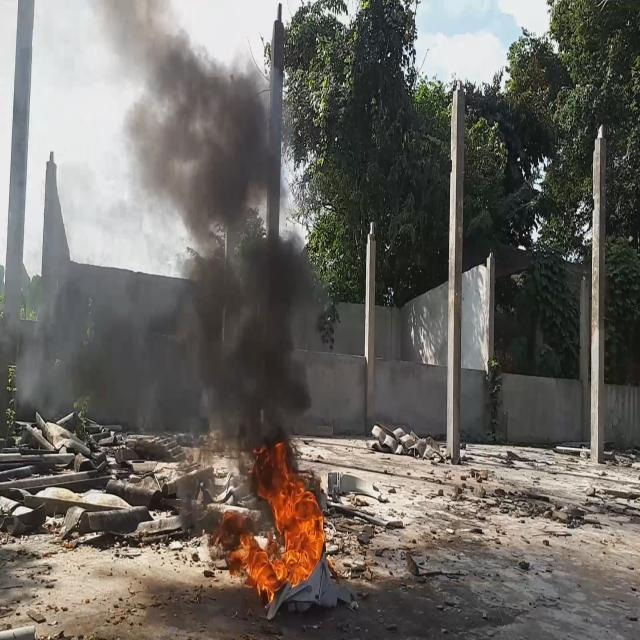Fire: (220, 444, 330, 596)
Smoke: (98, 0, 323, 466)
